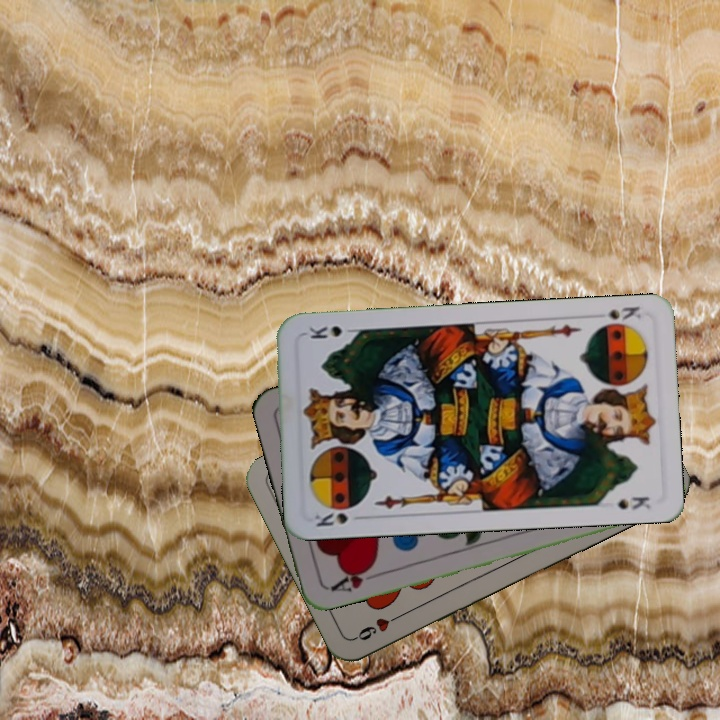H9: (350, 609, 405, 643)
HA: (326, 561, 383, 595)
SK: (592, 302, 644, 331), (311, 507, 351, 529)
